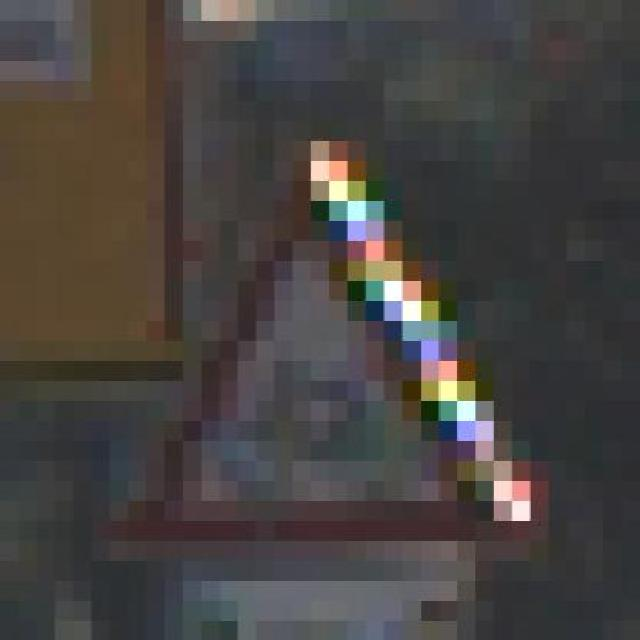CYCLE ROUTE AHEAD WARNING: (110, 80, 548, 560)
